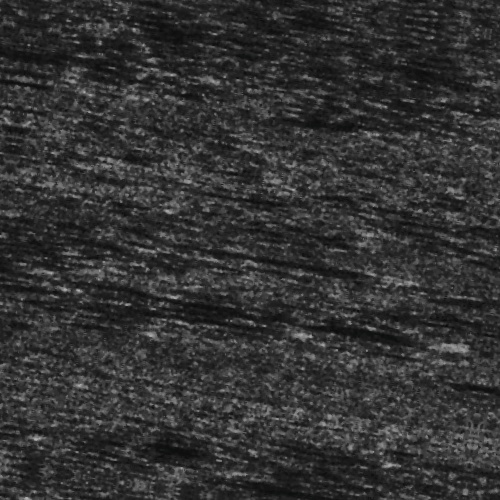object: (352, 249, 435, 260), (443, 306, 500, 319), (32, 308, 137, 315), (0, 17, 72, 26), (270, 317, 323, 328), (0, 128, 33, 139), (80, 315, 143, 320), (378, 478, 431, 483), (124, 302, 165, 307), (384, 436, 425, 439), (53, 276, 84, 279)
shadow: (167, 306, 475, 319), (64, 317, 296, 328), (197, 249, 393, 260), (399, 477, 500, 492), (245, 478, 404, 483), (0, 302, 144, 307), (0, 308, 84, 315), (0, 315, 111, 320), (0, 17, 36, 26), (455, 345, 500, 352), (309, 436, 405, 439), (0, 276, 68, 279)
